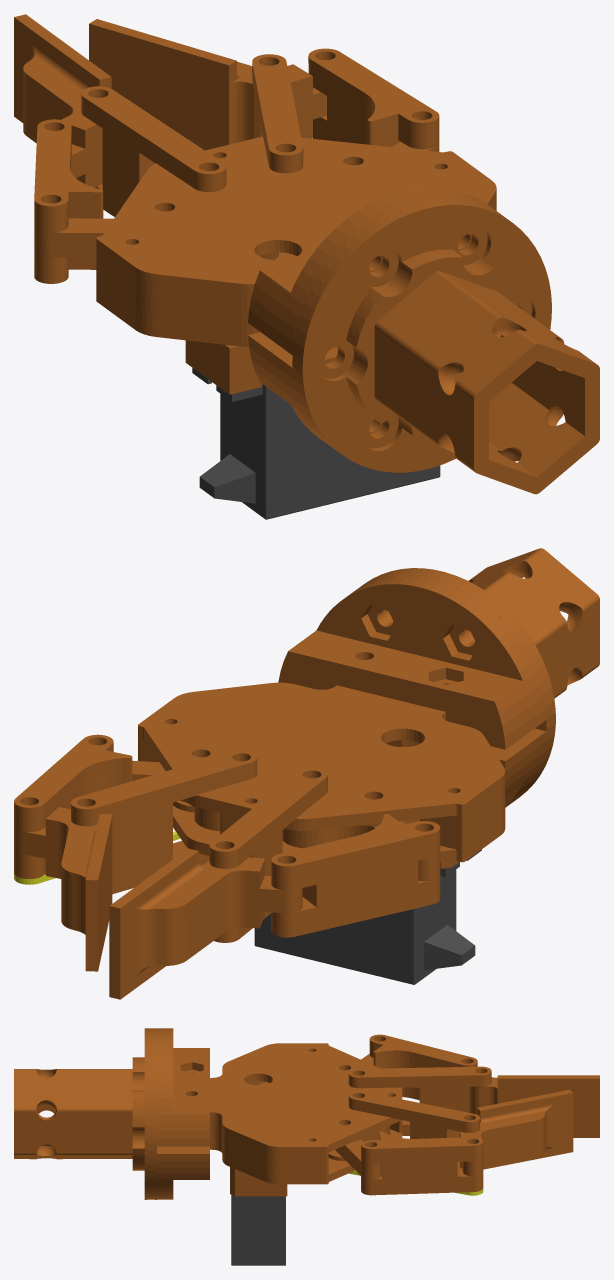
File: adaptivegripper.dae
3 renders of one model, top to bottom at view 1: azimuth 30°, elevation 25°; view 2: azimuth 150°, elevation 25°; view 3: azimuth 270°, elevation 25°, orthographic. The views are drawn at different scales.
Parts seen in each view (by area): view 1: AdaptiveGripperSmall_002, AdaptiveGripperSmall_004, AdaptiveGripperSmall_001, AdaptiveGripperSmall_007, AdaptiveGripperSmall_010, AdaptiveGripperSmall_011, AdaptiveGripperSmall, AdaptiveGripperSmall_009, AdaptiveGripperSmall_012, AdaptiveGripperSmall_013; view 2: AdaptiveGripperSmall_001, AdaptiveGripperSmall_004, AdaptiveGripperSmall_009, AdaptiveGripperSmall_011, AdaptiveGripperSmall_002, AdaptiveGripperSmall_007, AdaptiveGripperSmall_013, AdaptiveGripperSmall_010, AdaptiveGripperSmall_012, AdaptiveGripperSmall, AdaptiveGripperSmall_008; view 3: AdaptiveGripperSmall_001, AdaptiveGripperSmall_004, AdaptiveGripperSmall_002, AdaptiveGripperSmall_010, AdaptiveGripperSmall_012, AdaptiveGripperSmall, AdaptiveGripperSmall_011, AdaptiveGripperSmall_007, AdaptiveGripperSmall_013, AdaptiveGripperSmall_009, AdaptiveGripperSmall_008.
Part boxes in pixels (x1,y1,x2,y2): AdaptiveGripperSmall_002: [292, 197, 599, 494]; AdaptiveGripperSmall_004: [96, 136, 496, 296]; AdaptiveGripperSmall_001: [96, 153, 499, 445]; AdaptiveGripperSmall_007: [192, 368, 440, 519]; AdaptiveGripperSmall_010: [89, 19, 326, 150]; AdaptiveGripperSmall_011: [14, 14, 111, 187]; AdaptiveGripperSmall: [81, 86, 226, 216]; AdaptiveGripperSmall_009: [34, 119, 278, 283]; AdaptiveGripperSmall_012: [308, 48, 439, 149]; AdaptiveGripperSmall_013: [252, 54, 303, 173]; AdaptiveGripperSmall_001: [138, 575, 546, 868]; AdaptiveGripperSmall_004: [138, 682, 505, 829]; AdaptiveGripperSmall_009: [271, 814, 440, 937]; AdaptiveGripperSmall_011: [109, 848, 302, 999]; AdaptiveGripperSmall_002: [355, 548, 599, 802]; AdaptiveGripperSmall_007: [254, 849, 481, 984]; AdaptiveGripperSmall_013: [71, 750, 257, 894]; AdaptiveGripperSmall_010: [14, 807, 112, 971]; AdaptiveGripperSmall_012: [14, 734, 132, 878]; AdaptiveGripperSmall: [209, 768, 327, 942]; AdaptiveGripperSmall_008: [132, 760, 220, 831]; AdaptiveGripperSmall_001: [157, 1028, 402, 1199]; AdaptiveGripperSmall_004: [210, 1043, 402, 1154]; AdaptiveGripperSmall_002: [14, 1028, 156, 1199]; AdaptiveGripperSmall_010: [459, 1089, 573, 1176]; AdaptiveGripperSmall_012: [361, 1131, 483, 1195]; AdaptiveGripperSmall: [348, 1066, 491, 1135]; AdaptiveGripperSmall_011: [469, 1075, 599, 1137]; AdaptiveGripperSmall_007: [231, 1195, 285, 1265]; AdaptiveGripperSmall_013: [348, 1091, 479, 1167]; AdaptiveGripperSmall_009: [361, 1034, 477, 1100]; AdaptiveGripperSmall_008: [335, 1125, 389, 1179].
Bounding box in the file's own units: 66.24 × 143 × 55.3.
